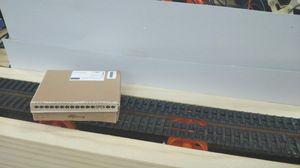box2: (27, 67, 123, 124)
